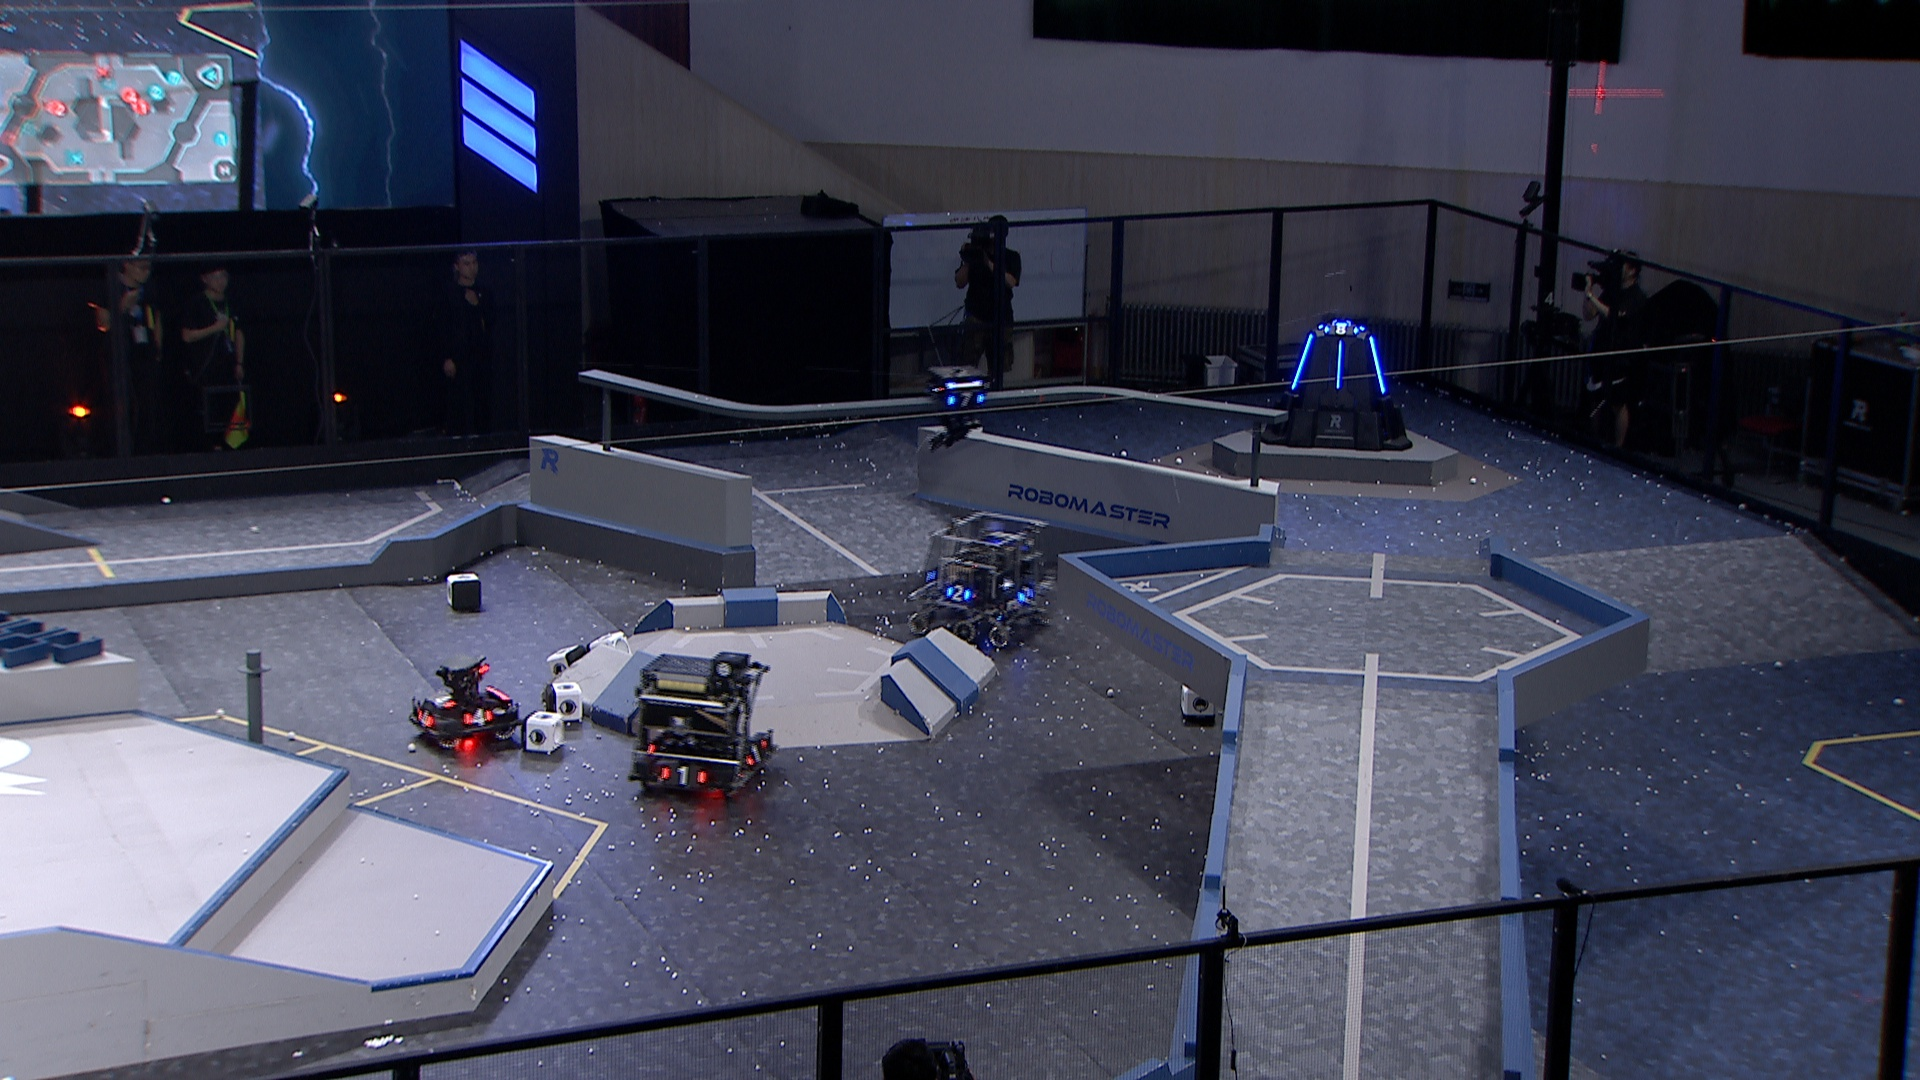armor: (1288, 330, 1313, 394), (1367, 334, 1387, 398), (659, 765, 708, 789), (945, 392, 984, 410), (744, 737, 767, 766), (463, 708, 496, 728), (1321, 322, 1362, 338), (1335, 339, 1346, 390), (945, 583, 973, 604), (429, 690, 458, 709), (1015, 584, 1038, 607), (413, 708, 434, 731)
base: (1262, 319, 1414, 452)
car: (624, 651, 782, 804), (903, 510, 1059, 651), (406, 655, 520, 754)
watcher: (926, 363, 988, 451)
